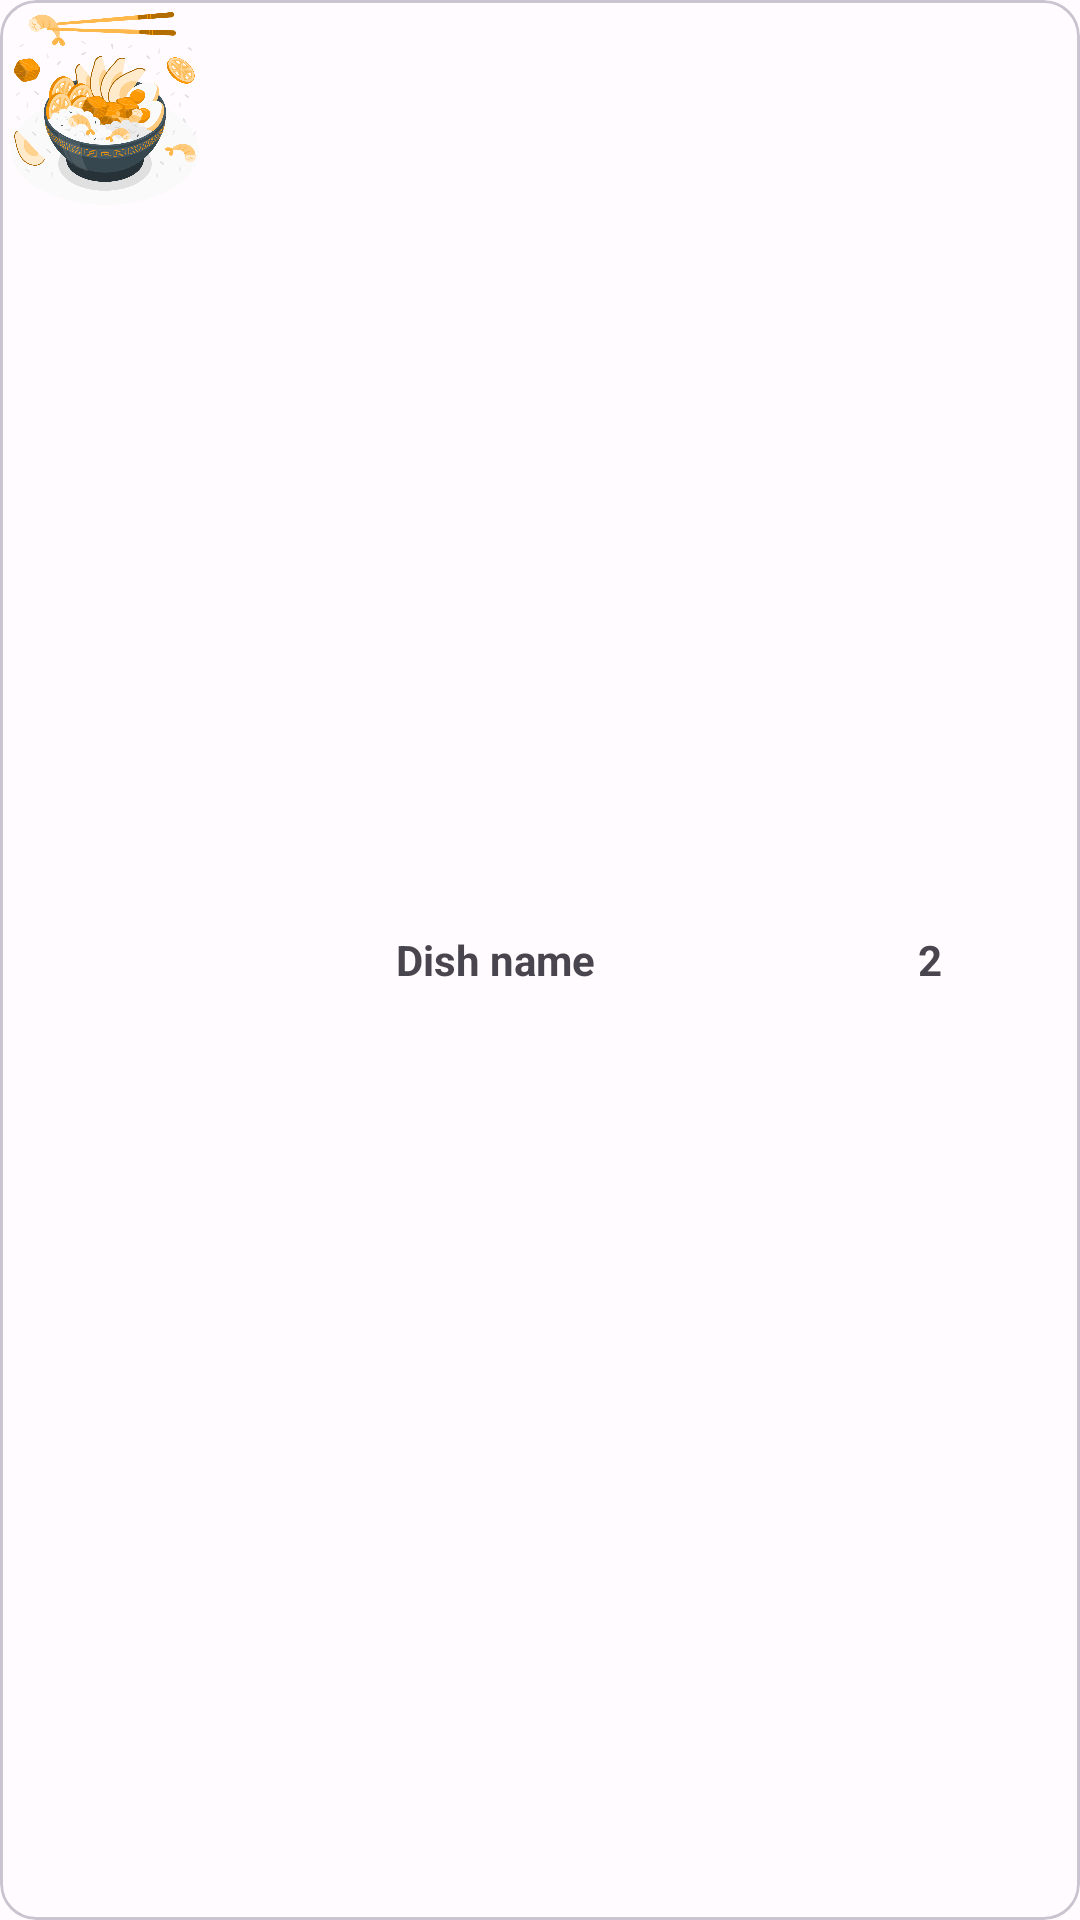

Icons on this 1080 x 1920 Android screen, each with the point to tap as (x=x, y=y):
Product's image: (x=105, y=101)
